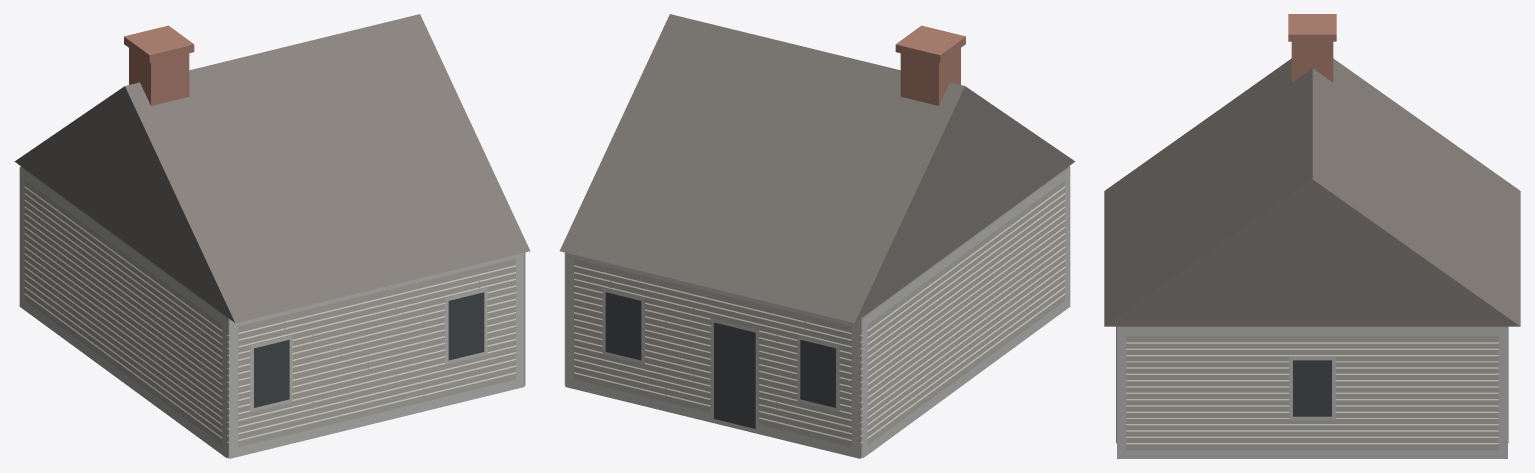
The model's file is recon_1835_blk_lake_market_d4_02__inferred_1835.glb.
3 renders of one model, left to right at view 1: azimuth 30°, elevation 25°; view 2: azimuth 150°, elevation 25°; view 3: azimuth 270°, elevation 25°, orthographic. The views are drawn at different scales.
Parts seen in each view (by area): view 1: recon_1835_blk_lake_market_d4_02__inferred_1835; view 2: recon_1835_blk_lake_market_d4_02__inferred_1835; view 3: recon_1835_blk_lake_market_d4_02__inferred_1835.
Part boxes in pixels (left/top/right/bottom): recon_1835_blk_lake_market_d4_02__inferred_1835: left=14, top=14, right=530, bottom=458; recon_1835_blk_lake_market_d4_02__inferred_1835: left=559, top=14, right=1075, bottom=458; recon_1835_blk_lake_market_d4_02__inferred_1835: left=1104, top=14, right=1520, bottom=458.
Size of the model in its own units: 6.55 by 6.99 by 8.39.
